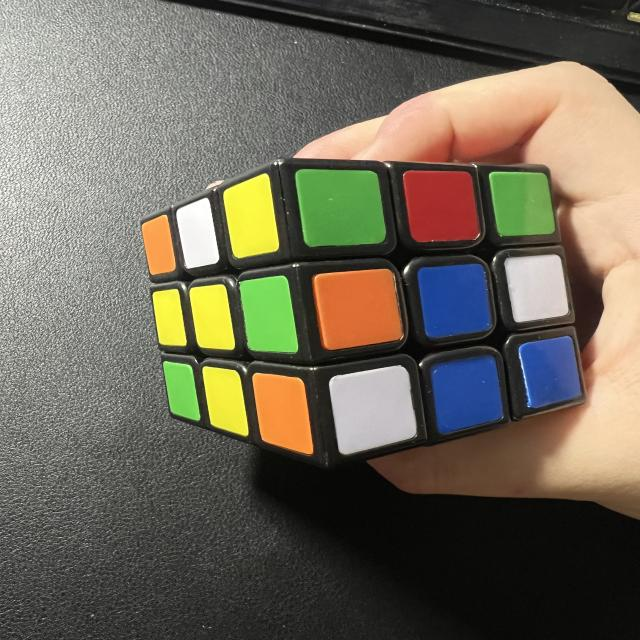blue: (416, 258, 494, 343), (428, 355, 505, 434), (517, 333, 583, 409)
center: (416, 258, 493, 342), (189, 281, 236, 356)
green: (296, 162, 390, 248), (237, 274, 299, 361), (488, 167, 554, 238), (163, 357, 199, 424)
orange: (311, 263, 402, 351), (251, 367, 313, 462), (138, 212, 180, 279)
red: (402, 167, 484, 243)
white: (321, 359, 422, 458), (504, 249, 570, 325), (169, 196, 221, 270)
yellow: (217, 172, 280, 259), (201, 361, 249, 443), (191, 283, 237, 358), (151, 287, 188, 352)
